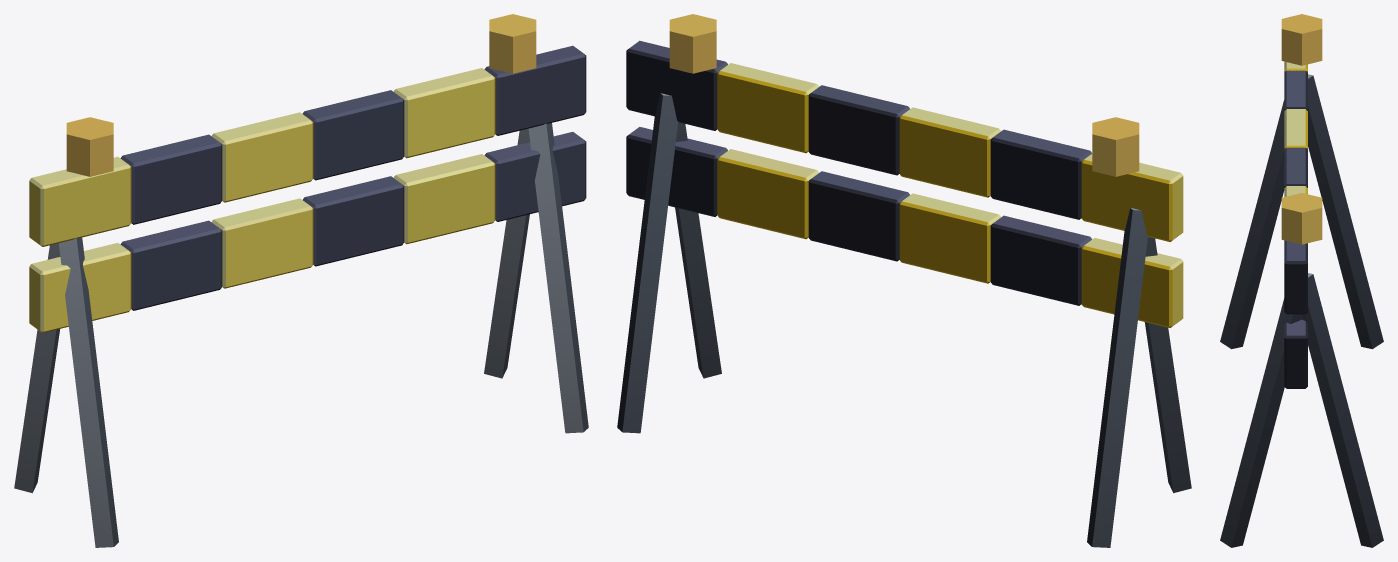
Rendered from barricade.glb.
The picture shows the model from 3 angles, left to right: view 1: azimuth 30°, elevation 25°; view 2: azimuth 150°, elevation 25°; view 3: azimuth 270°, elevation 25°; orthographic projection. The views are drawn at different scales.
Visible parts, largest first — view 1: barricade; view 2: barricade; view 3: barricade.
Boxes of the visible parts, x1,y1,x2,y2 form: barricade: [14, 14, 588, 547]; barricade: [617, 14, 1191, 547]; barricade: [1220, 14, 1383, 547].
Size of the model in its own units: 0.93 by 0.6247 by 0.2789.
